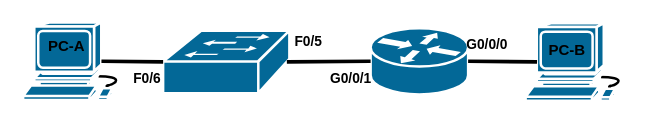
The diagram is 651 pixels wide and 124 high, and some of its shapes have lost their labels. The centre of each missing label's shape, as x and y in pixels:
"R1" belongs at (419,60).
"S1" belongs at (225,61).
